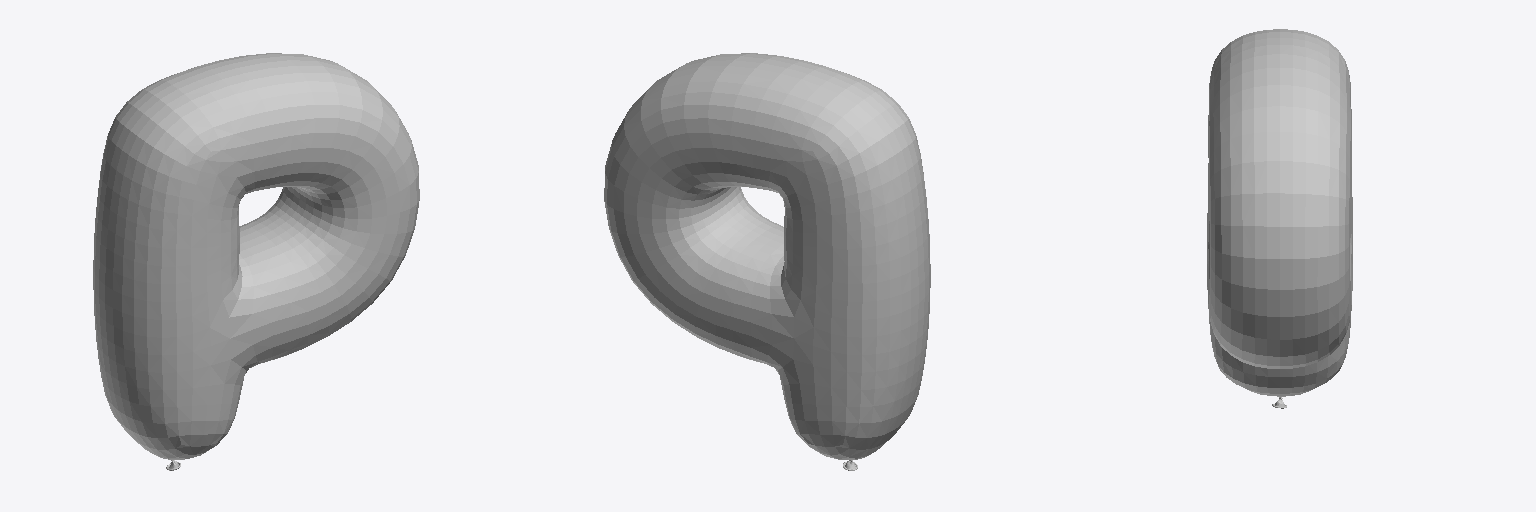
File: balloonp.obj
3 views of the same model, side by side, from view 1: azimuth 30°, elevation 25°; view 2: azimuth 150°, elevation 25°; view 3: azimuth 270°, elevation 25° (orthographic).
Parts seen in each view (by area): view 1: Balloon_Alphabet_Subdivision_P_Alphabet_P; view 2: Balloon_Alphabet_Subdivision_P_Alphabet_P; view 3: Balloon_Alphabet_Subdivision_P_Alphabet_P.
Boxes of the visible parts, box(x1,y1,x2,y2) form: Balloon_Alphabet_Subdivision_P_Alphabet_P: box(93, 53, 419, 470); Balloon_Alphabet_Subdivision_P_Alphabet_P: box(604, 53, 930, 470); Balloon_Alphabet_Subdivision_P_Alphabet_P: box(1207, 29, 1352, 408).
Bounding box in the file's own units: 41.5 × 50.66 × 17.44.